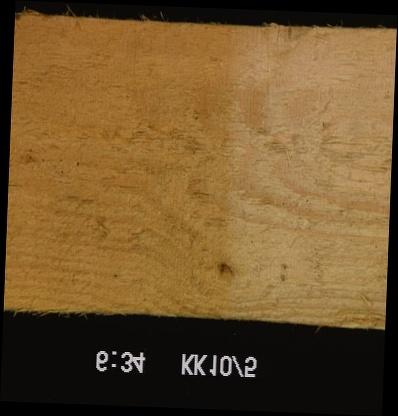split: (317, 124, 374, 159)
